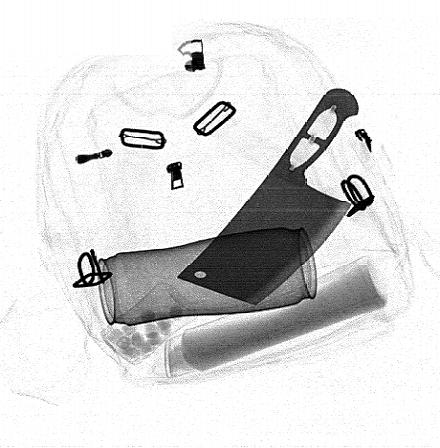Knife: (175, 86, 360, 308)
